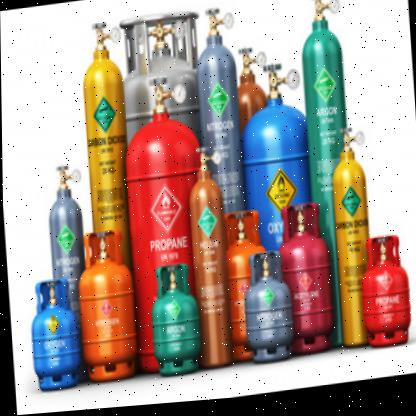gas-tank: (110, 0, 210, 166), (71, 219, 141, 390), (271, 199, 339, 364), (217, 205, 273, 377), (352, 226, 415, 360), (143, 250, 203, 382), (242, 246, 296, 377), (26, 273, 83, 392)
